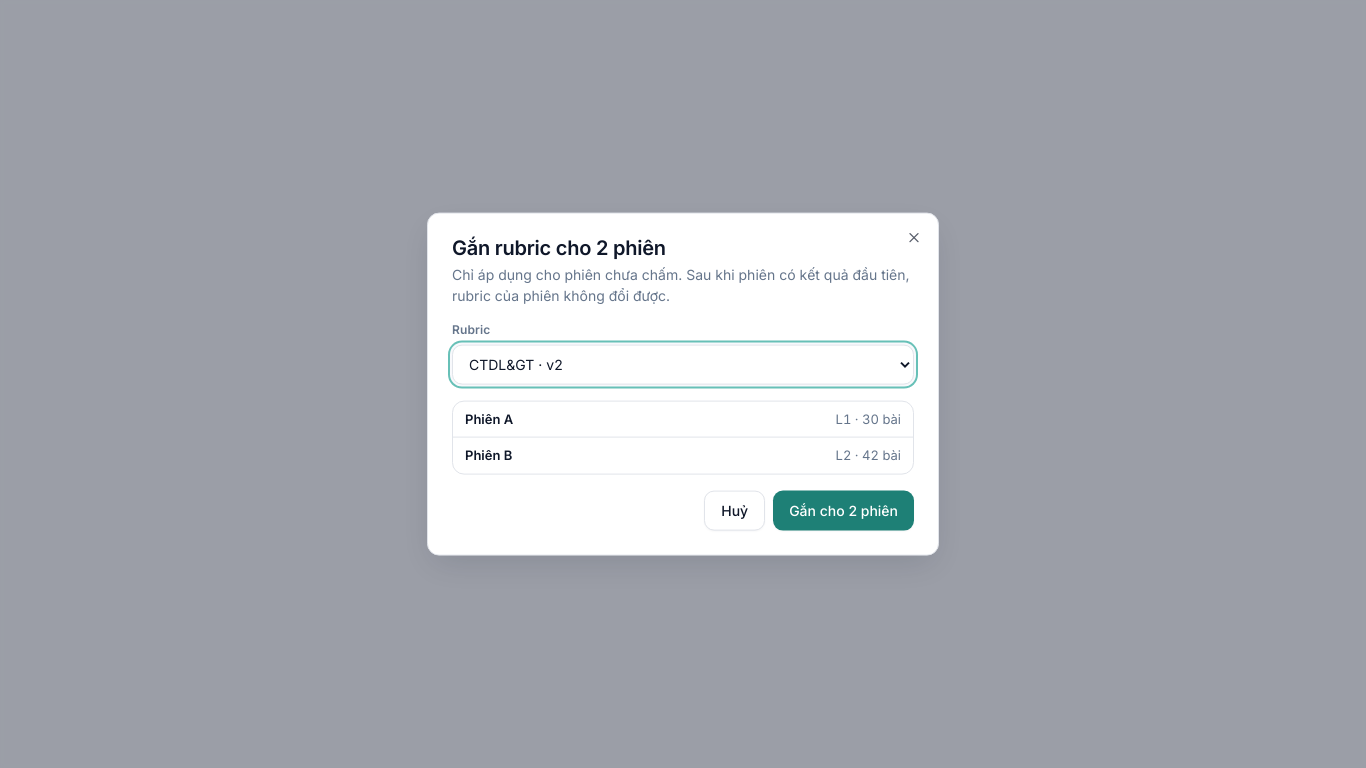
Test case: BulkDialog — assign rubric › reports a 409 (a session already has results) per session
Click the button "Gắn cho 2 phiên".
click(844, 510)  # box [773,490,914,530]
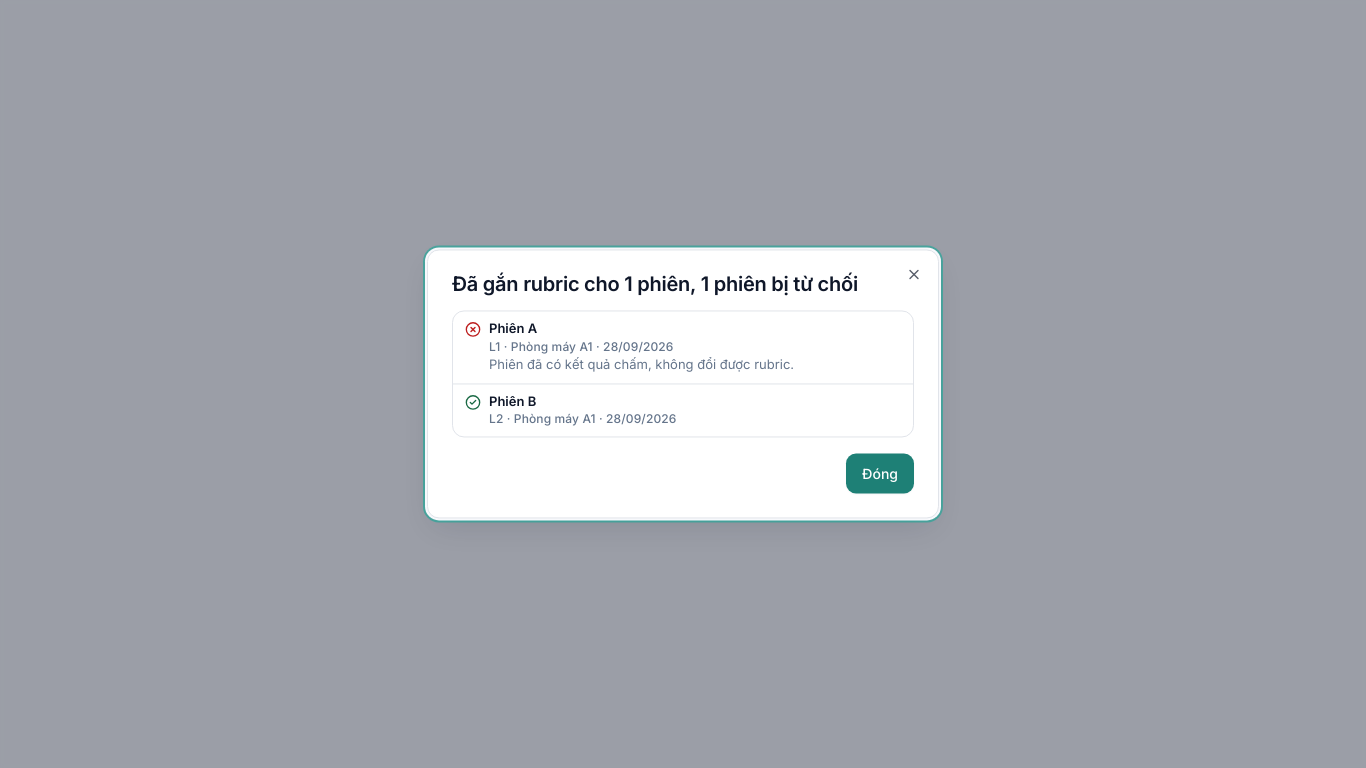
Expected: the heading "Đã gắn rubric cho 1 phiên, 1 phiên bị từ chối" is shown, [452,274,914,294]
Expected: the text "Phiên đã có kết quả chấm, không đổi được rubric." is shown, [489,356,794,375]
